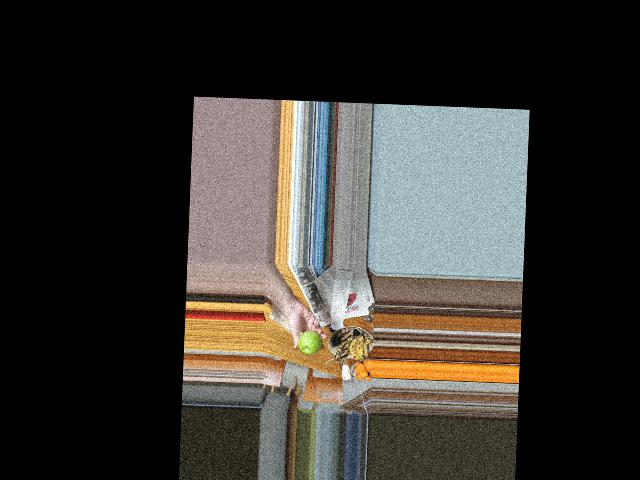apple: (298, 328, 322, 356)
